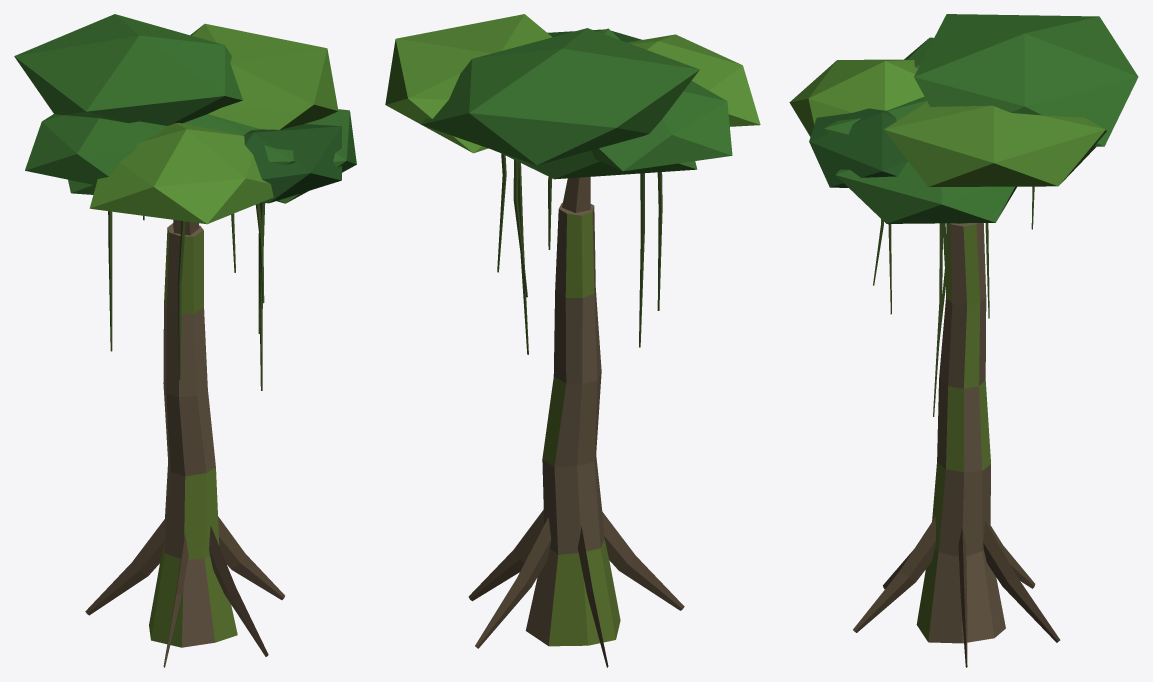
Rendered from Tree_Kapok_A.glb.
3 renders of one model, left to right at view 1: azimuth 30°, elevation 25°; view 2: azimuth 150°, elevation 25°; view 3: azimuth 270°, elevation 25°, orthographic. The views are drawn at different scales.
Parts seen in each view (by area): view 1: Tree_Kapok_A; view 2: Tree_Kapok_A; view 3: Tree_Kapok_A.
Part boxes in pixels (<box>): Tree_Kapok_A: <box>14,14,356,667</box>; Tree_Kapok_A: <box>385,14,760,667</box>; Tree_Kapok_A: <box>789,14,1138,667</box>.
Size of the model in its own units: 4.98 by 8.84 by 4.79.
